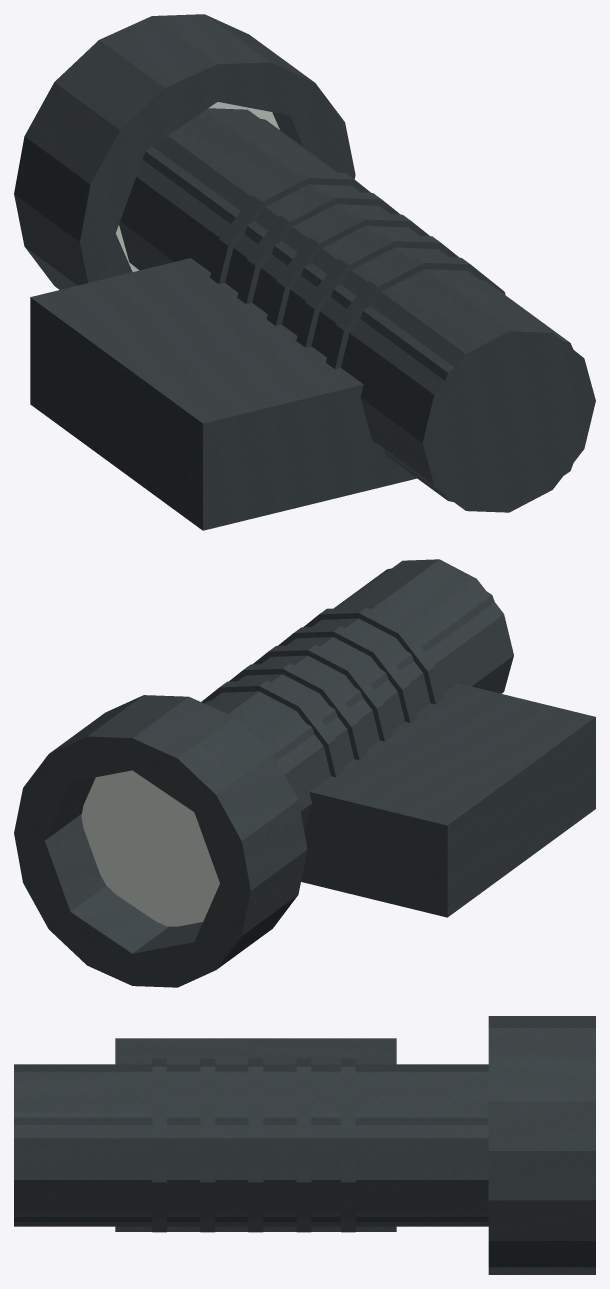
File: wide_light.glb
The picture shows the model from 3 angles, top to bottom: view 1: azimuth 30°, elevation 25°; view 2: azimuth 150°, elevation 25°; view 3: azimuth 270°, elevation 25°; orthographic projection. The views are drawn at different scales.
Parts seen in each view (by area): view 1: wide_light_battery_tube, wide_light_battery_tube.001; view 2: wide_light_battery_tube, wide_light_battery_tube.001, wide_light_reflector; view 3: wide_light_battery_tube, wide_light_battery_tube.001.
Part boxes in pixels (box(x1,y1,x2,y2)): wide_light_battery_tube: box(14, 14, 595, 530); wide_light_battery_tube.001: box(80, 64, 595, 511); wide_light_battery_tube: box(14, 559, 595, 987); wide_light_battery_tube.001: box(14, 568, 494, 985); wide_light_reflector: box(81, 770, 219, 926); wide_light_battery_tube: box(14, 1016, 595, 1274); wide_light_battery_tube.001: box(14, 1112, 488, 1221).
Size of the model in its own units: 0.097 by 0.07 by 0.1573.
2 materials, 1 textured.
